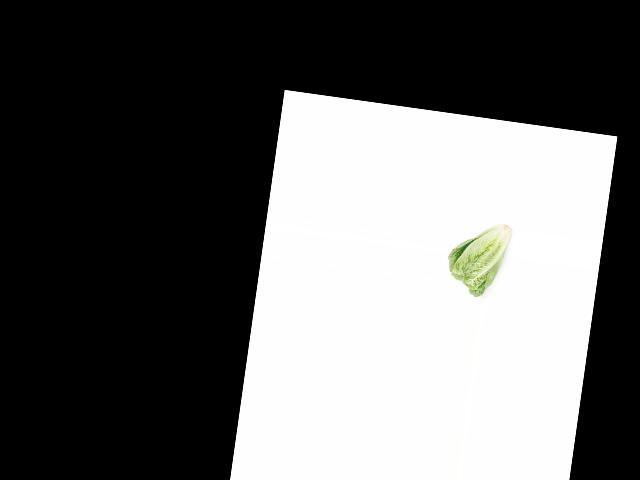lettuce: (443, 216, 514, 300)
